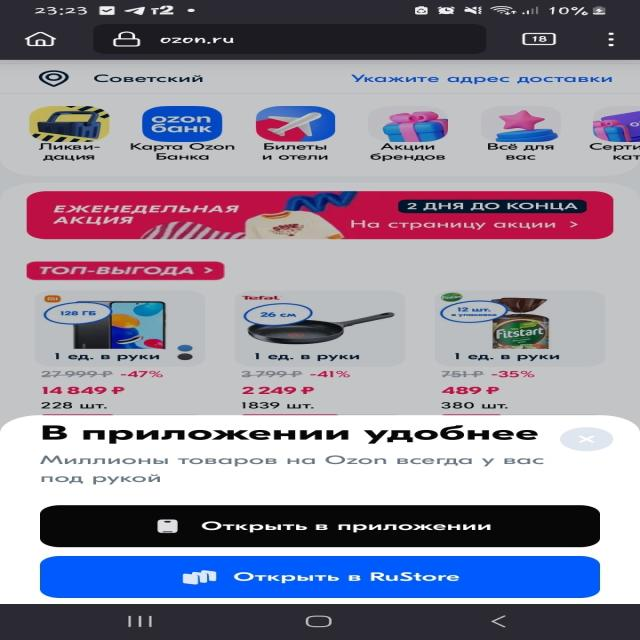button: (42, 505, 604, 548), (42, 557, 602, 599), (556, 428, 618, 452)
site: (0, 414, 640, 604)
